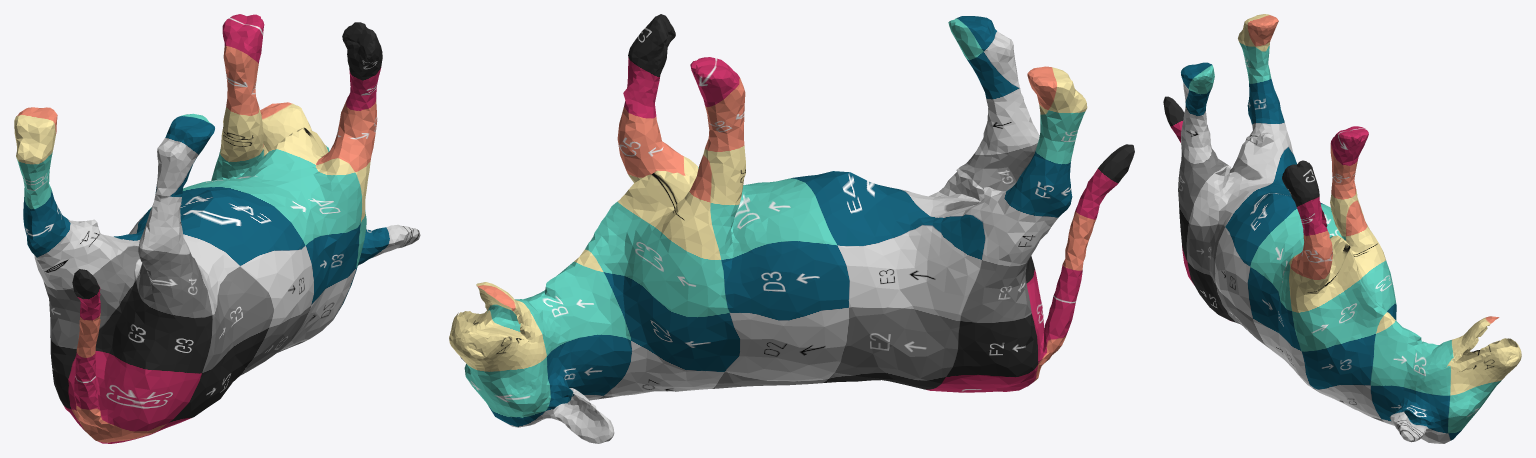
File: horse_01-cow_04.obj
3 renders of one model, left to right at view 1: azimuth 30°, elevation 25°; view 2: azimuth 150°, elevation 25°; view 3: azimuth 270°, elevation 25°, orthographic. The views are drawn at different scales.
Parts seen in each view (by area): view 1: horse_01-cow_04_export; view 2: horse_01-cow_04_export; view 3: horse_01-cow_04_export.
Boxes of the visible parts, x1=… form: horse_01-cow_04_export: x1=14, y1=14, x2=420, y2=443; horse_01-cow_04_export: x1=449, y1=14, x2=1134, y2=443; horse_01-cow_04_export: x1=1163, y1=14, x2=1521, y2=443.
Size of the model in its own units: 0.8521 by 0.5666 by 0.6736.
